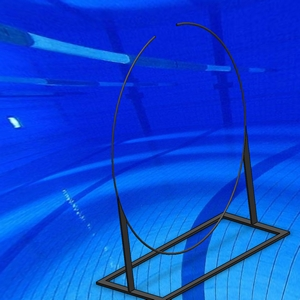circle: (94, 21, 291, 299)
